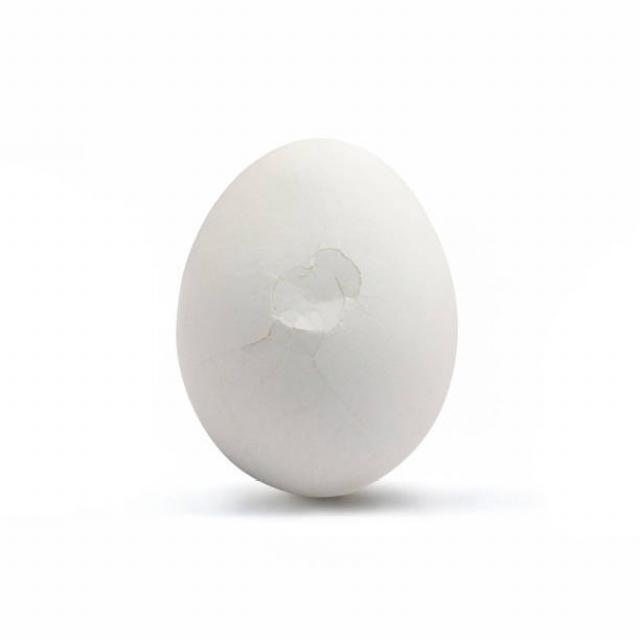biodegradable: (164, 131, 471, 504)
